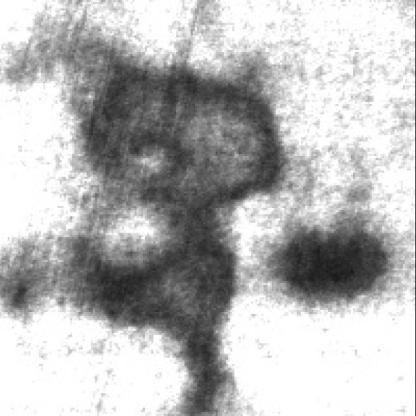patches: (48, 216, 235, 396), (69, 54, 285, 202), (268, 214, 391, 298)
